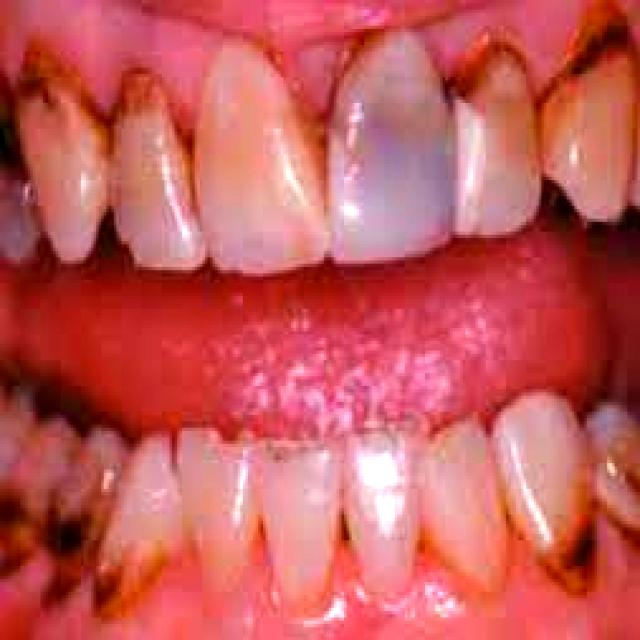tooth-discoloration: (195, 39, 326, 273), (329, 29, 450, 261), (453, 35, 539, 235)
